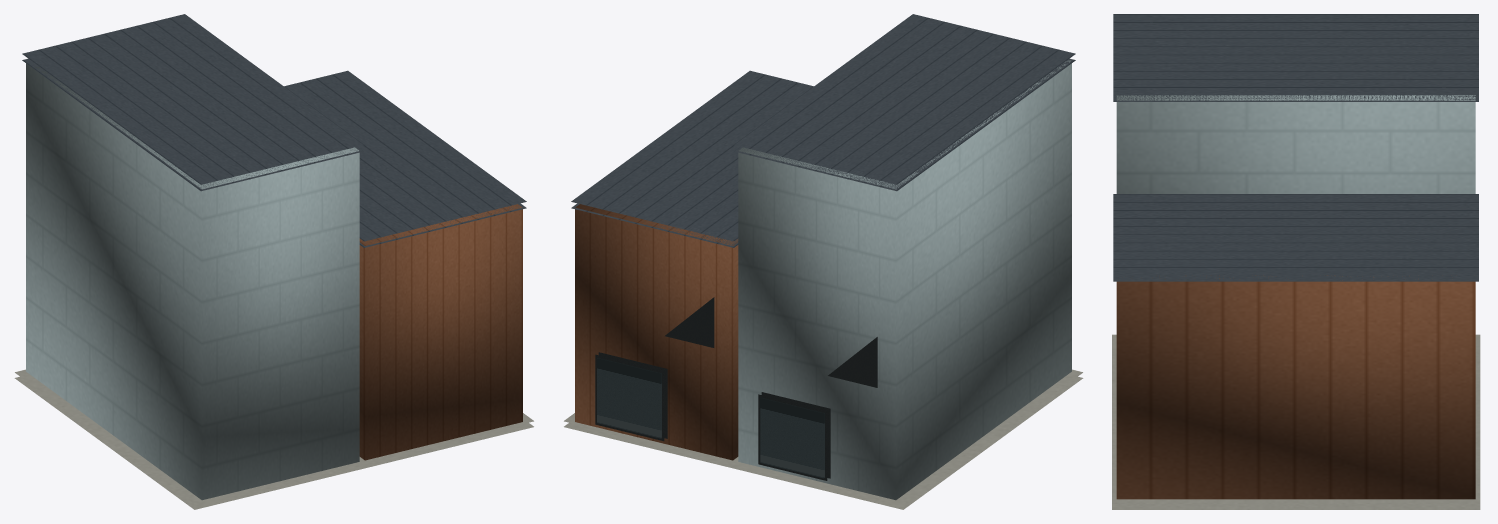
The model's file is shop_010.lod2.obj.
3 renders of one model, left to right at view 1: azimuth 30°, elevation 25°; view 2: azimuth 150°, elevation 25°; view 3: azimuth 270°, elevation 25°, orthographic. The views are drawn at different scales.
Parts seen in each view (by area): view 1: shop_010; view 2: shop_010; view 3: shop_010.
Part boxes in pixels (bbox=[...]): shop_010: bbox=[14, 14, 533, 509]; shop_010: bbox=[564, 14, 1083, 509]; shop_010: bbox=[1112, 14, 1480, 509].
Size of the model in its own units: 9.96 by 9.04 by 9.23.
Materials: 1 (1 with a texture image).
